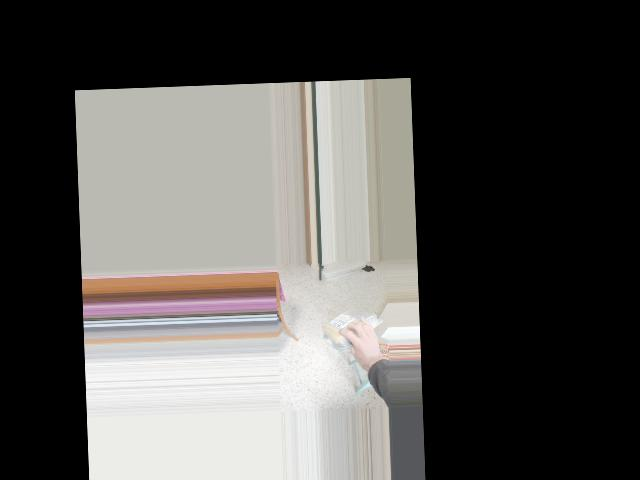cheese: (316, 311, 379, 342)
